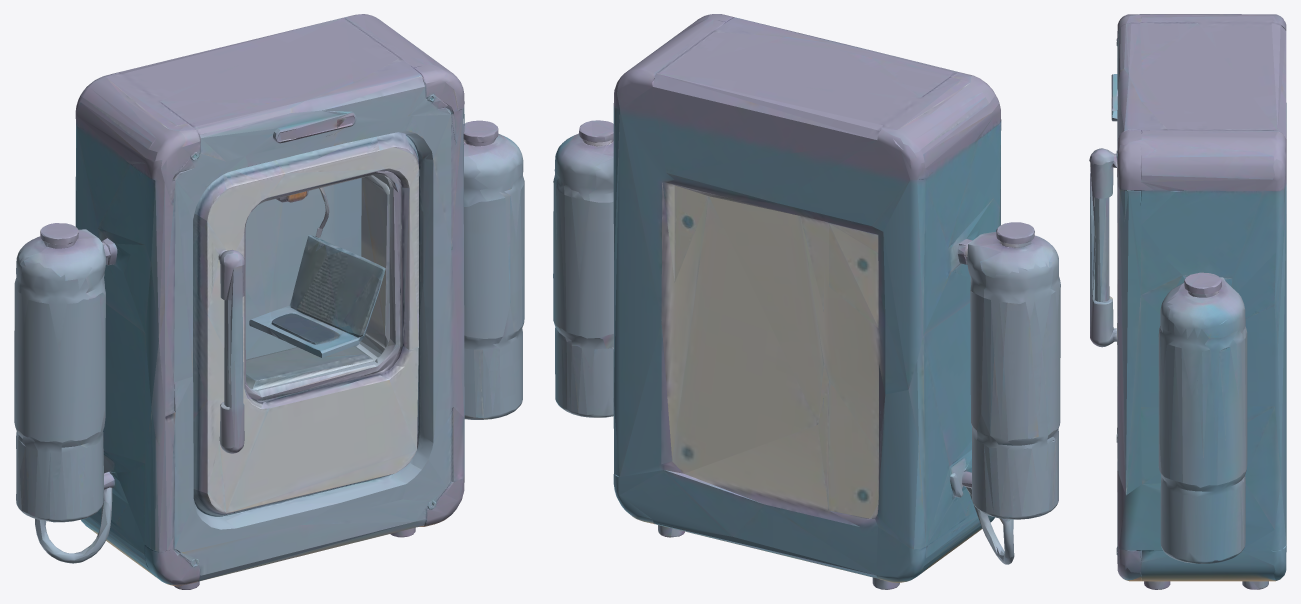
The model's file is life-support.gltf.
3 renders of one model, left to right at view 1: azimuth 30°, elevation 25°; view 2: azimuth 150°, elevation 25°; view 3: azimuth 270°, elevation 25°, orthographic. The views are drawn at different scales.
Size of the model in its own units: 1.9 by 1.71 by 0.6708.
1 material, 1 textured.
